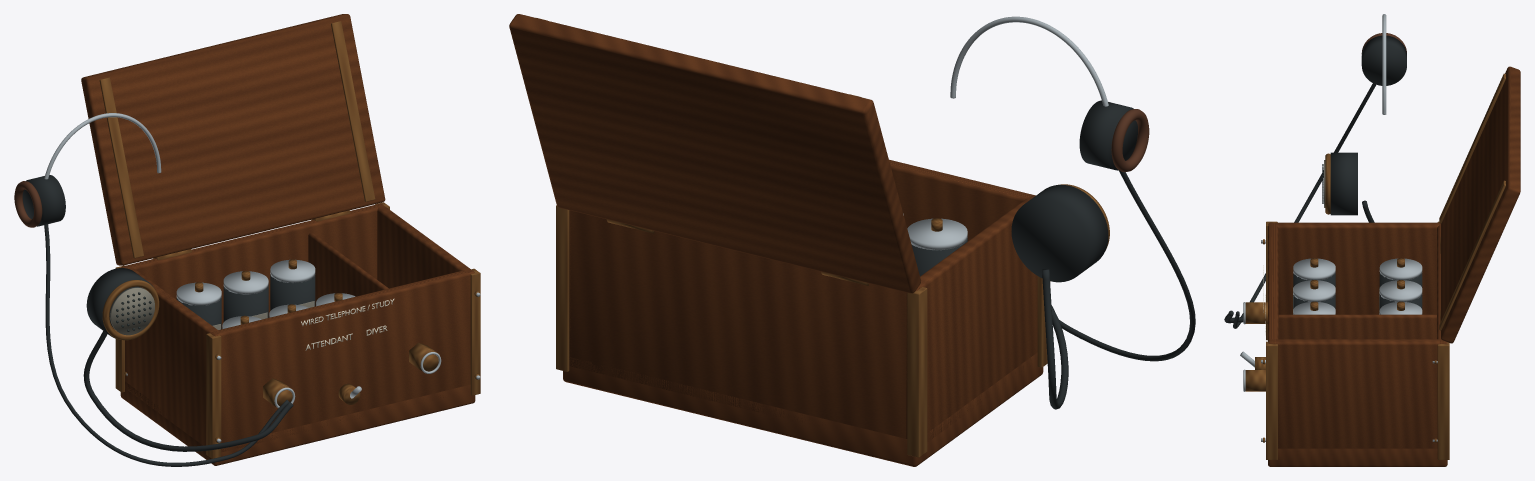
The model's file is surface-telephone.glb.
The picture shows the model from 3 angles, left to right: view 1: azimuth 30°, elevation 25°; view 2: azimuth 150°, elevation 25°; view 3: azimuth 270°, elevation 25°; orthographic projection. The views are drawn at different scales.
Visible parts, largest first — view 1: Telephone lid, Battery box face, Battery box face.001, Battery box side, Ash battery box base, Battery box side.001, Storage compartment divider, Lid binding.001, Receiver cord, Lid binding, Attendant transmitter cord, Box brass corner (+16 smaller); view 2: Telephone lid, Battery box face.001, Battery box side, Ash battery box base, Attendant transmitter body, Battery box face, Box brass corner.001, Single attendant receiver, Box brass corner.003, Receiver cord, Attendant transmitter cord, Spring headband (+4 smaller); view 3: Battery box side.001, Telephone lid, Battery box side, Storage compartment divider, Ash battery box base, Attendant transmitter body, Single attendant receiver, Box brass corner.003, Box brass corner.002, Battery box face, Receiver cord, Lid binding.001 (+12 smaller).
Part boxes in pixels (x1,y1,x2,y2): Telephone lid: [81, 14, 385, 265]; Battery box face: [211, 269, 474, 452]; Battery box face.001: [121, 203, 383, 328]; Battery box side: [125, 265, 221, 445]; Ash battery box base: [120, 381, 475, 465]; Battery box side.001: [377, 204, 474, 288]; Storage compartment divider: [308, 232, 388, 306]; Lid binding.001: [331, 21, 375, 201]; Receiver cord: [44, 224, 289, 466]; Lid binding: [99, 77, 143, 258]; Attendant transmitter cord: [83, 331, 293, 451]; Box brass corner: [206, 333, 221, 458]; Telephone lid: [509, 14, 920, 293]; Battery box face.001: [569, 210, 921, 438]; Battery box side: [906, 195, 1037, 441]; Ash battery box base: [563, 352, 1043, 466]; Attendant transmitter body: [1011, 184, 1108, 282]; Battery box face: [889, 159, 1035, 241]; Box brass corner.001: [907, 287, 927, 457]; Single attendant receiver: [1079, 100, 1137, 170]; Box brass corner.003: [556, 205, 569, 371]; Receiver cord: [1059, 170, 1195, 361]; Attendant transmitter cord: [1042, 269, 1068, 409]; Spring headband: [950, 16, 1108, 106]; Battery box side.001: [1268, 339, 1446, 448]; Telephone lid: [1441, 66, 1520, 343]; Battery box side: [1274, 222, 1439, 314]; Storage compartment divider: [1278, 314, 1436, 339]; Ash battery box base: [1268, 448, 1447, 466]; Attendant transmitter body: [1330, 152, 1357, 215]; Single attendant receiver: [1361, 35, 1406, 85]; Box brass corner.003: [1437, 342, 1449, 459]; Box brass corner.002: [1266, 341, 1277, 459]; Battery box face: [1268, 222, 1278, 343]; Receiver cord: [1233, 83, 1375, 328]; Lid binding.001: [1439, 180, 1505, 330].
Bounding box in the file's own units: 0.6582 × 0.5029 × 0.4446.
8 materials, 2 textured.
